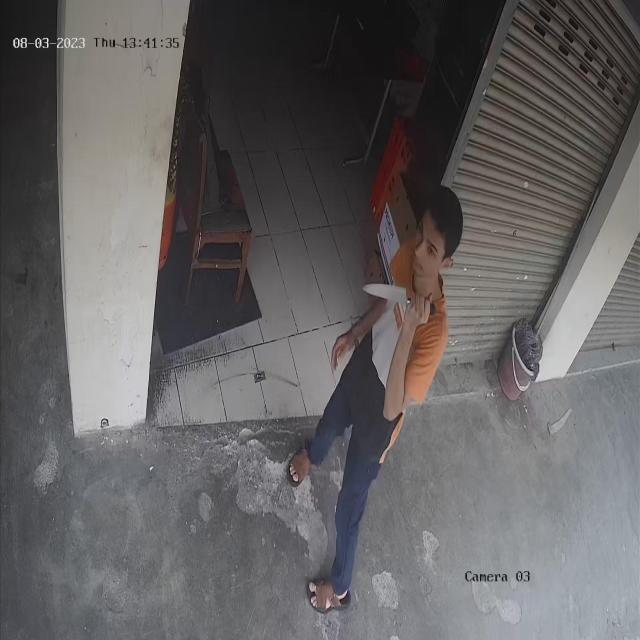Knife: (358, 274, 442, 325)
